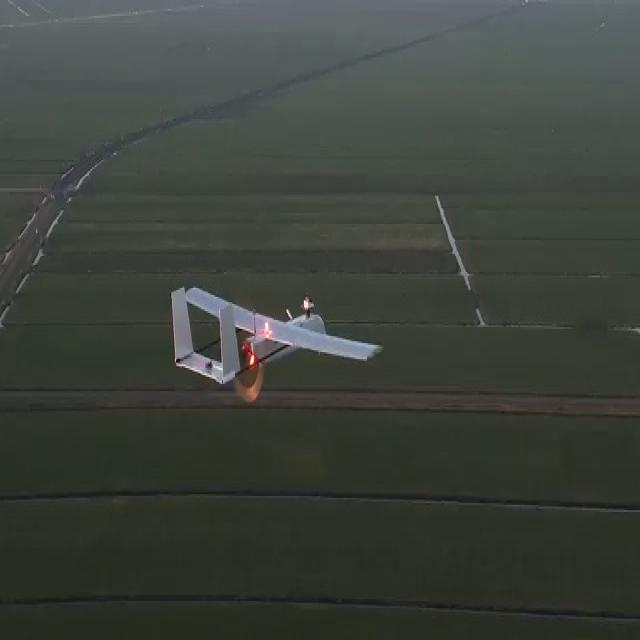iha: (170, 267, 388, 400)
